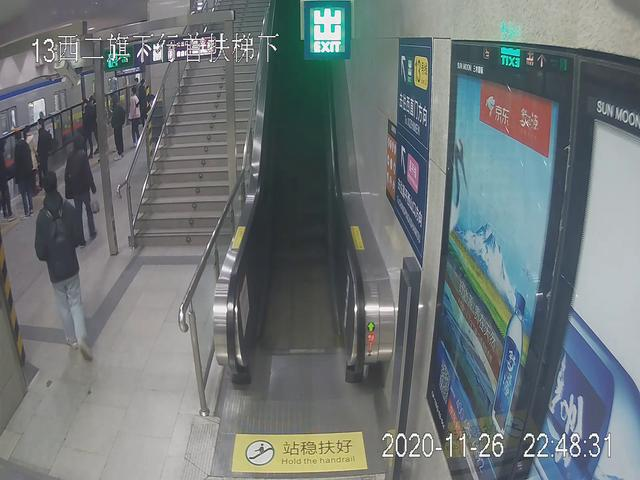person: (35, 173, 97, 363), (64, 130, 97, 241), (13, 131, 36, 216), (33, 119, 55, 183), (106, 92, 126, 161), (123, 86, 145, 146), (78, 96, 96, 169)
